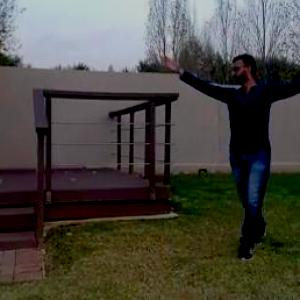takeoff: (160, 51, 300, 257)
